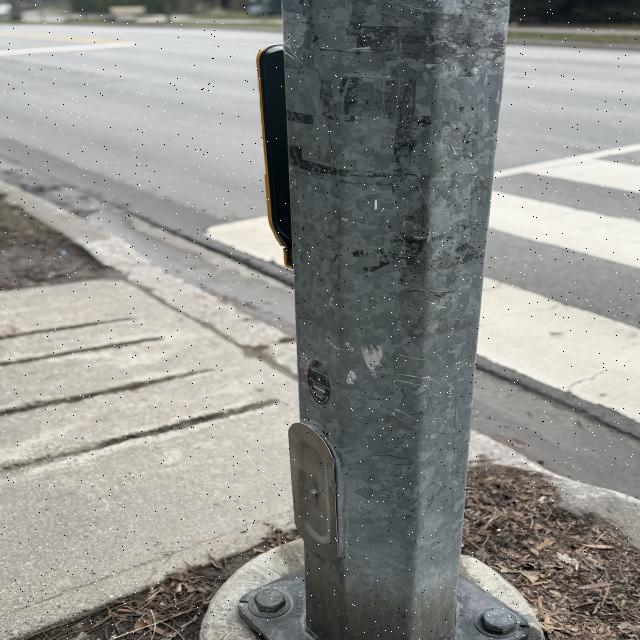Electrical Pole: (234, 3, 534, 640)
